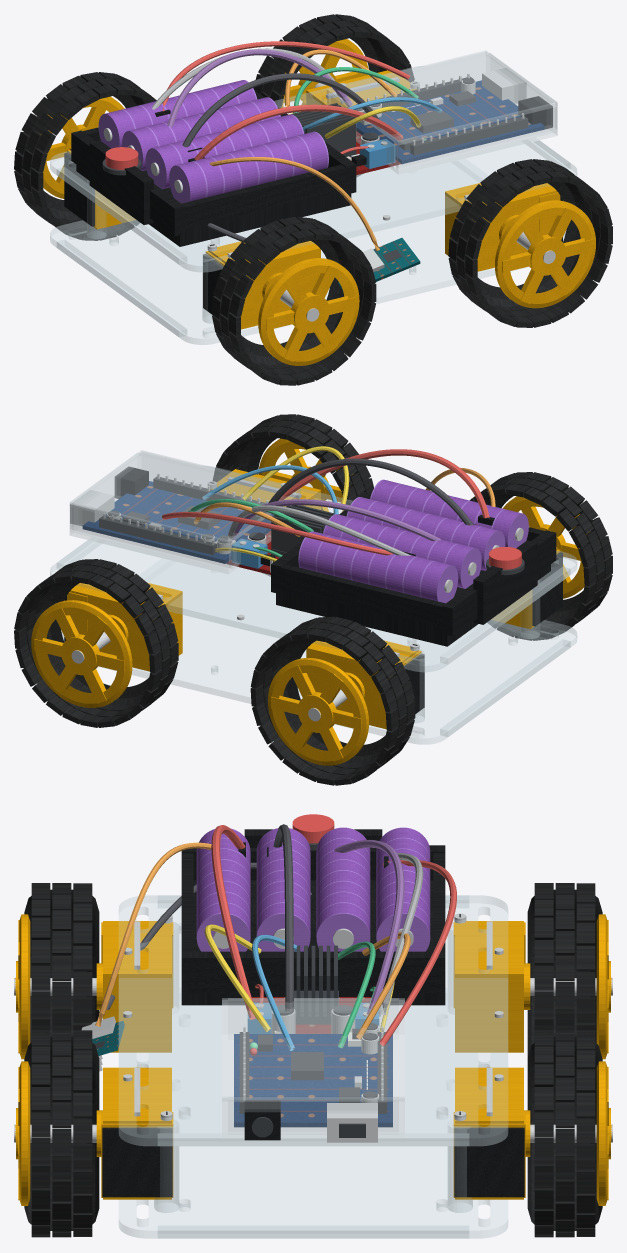
File: car.glb
3 renders of one model, top to bottom at view 1: azimuth 30°, elevation 25°; view 2: azimuth 150°, elevation 25°; view 3: azimuth 270°, elevation 25°, orthographic. The views are drawn at different scales.
Parts seen in each view (by area): view 1: Lower acrylic chassis plate with slots, Upper acrylic equipment deck with fixing holes, Front_Left black rubber tyre with tread blocks, Rear_Left black rubber tyre with tread blocks, Arduino case transparent lid, Rear_Right black rubber tyre with tread blocks, Rear_Left yellow six-spoke wheel rim, Front_Left yellow six-spoke wheel rim, Purple 18650 lithium cell 1, Arduino case long clear wall -29.5, Battery holder left side rail, Front_Right black rubber tyre with tread blocks (+43 smaller); view 2: Lower acrylic chassis plate with slots, Upper acrylic equipment deck with fixing holes, Rear_Right black rubber tyre with tread blocks, Front_Right black rubber tyre with tread blocks, Arduino case transparent lid, Rear_Left black rubber tyre with tread blocks, Rear_Right yellow six-spoke wheel rim, Front_Right yellow six-spoke wheel rim, Purple 18650 lithium cell 4, Front_Left black rubber tyre with tread blocks, Arduino case long clear wall 29.5, Battery holder right side rail (+40 smaller); view 3: Lower acrylic chassis plate with slots, Upper acrylic equipment deck with fixing holes, Arduino case transparent lid, Front_Right black rubber tyre with tread blocks, Front_Left black rubber tyre with tread blocks, Rear_Right black rubber tyre with tread blocks, Rear_Left black rubber tyre with tread blocks, Arduino UNO R3 blue PCB, Yellow DC gearmotor housing R_0, Battery holder front end wall, Yellow DC gearmotor housing L_0, Purple 18650 lithium cell 3 (+44 smaller).
Boxes of the visible parts, bbox=[...] form: Lower acrylic chassis plate with slots: bbox=[50, 162, 565, 344]; Upper acrylic equipment deck with fixing holes: bbox=[50, 66, 576, 272]; Front_Left black rubber tyre with tread blocks: bbox=[448, 159, 612, 327]; Rear_Left black rubber tyre with tread blocks: bbox=[212, 216, 376, 385]; Arduino case transparent lid: bbox=[327, 50, 557, 144]; Rear_Right black rubber tyre with tread blocks: bbox=[14, 72, 156, 240]; Rear_Left yellow six-spoke wheel rim: bbox=[258, 258, 359, 365]; Front_Left yellow six-spoke wheel rim: bbox=[495, 200, 595, 308]; Purple 18650 lithium cell 1: bbox=[169, 131, 328, 203]; Arduino case long clear wall -29.5: bbox=[396, 103, 557, 170]; Battery holder left side rail: bbox=[180, 164, 351, 233]; Front_Right black rubber tyre with tread blocks: bbox=[253, 14, 414, 176]; Lower acrylic chassis plate with slots: bbox=[62, 562, 576, 744]; Upper acrylic equipment deck with fixing holes: bbox=[50, 466, 576, 671]; Rear_Right black rubber tyre with tread blocks: bbox=[250, 616, 415, 785]; Front_Right black rubber tyre with tread blocks: bbox=[14, 559, 178, 727]; Arduino case transparent lid: bbox=[70, 450, 300, 544]; Rear_Left black rubber tyre with tread blocks: bbox=[470, 472, 612, 640]; Rear_Right yellow six-spoke wheel rim: bbox=[267, 658, 368, 765]; Front_Right yellow six-spoke wheel rim: bbox=[31, 600, 132, 707]; Purple 18650 lithium cell 4: bbox=[298, 531, 458, 603]; Front_Left black rubber tyre with tread blocks: bbox=[213, 414, 373, 576]; Arduino case long clear wall 29.5: bbox=[70, 502, 230, 569]; Battery holder right side rail: bbox=[276, 564, 447, 631]; Lower acrylic chassis plate with slots: bbox=[119, 1000, 507, 1238]; Upper acrylic equipment deck with fixing holes: bbox=[119, 895, 507, 1145]; Arduino case transparent lid: bbox=[222, 998, 404, 1101]; Front_Right black rubber tyre with tread blocks: bbox=[527, 1030, 602, 1237]; Front_Left black rubber tyre with tread blocks: bbox=[24, 1030, 99, 1237]; Rear_Right black rubber tyre with tread blocks: bbox=[527, 883, 602, 1057]; Rear_Left black rubber tyre with tread blocks: bbox=[24, 883, 99, 1042]; Arduino UNO R3 blue PCB: bbox=[234, 1034, 392, 1127]; Yellow DC gearmotor housing R_0: bbox=[455, 921, 523, 1052]; Battery holder front end wall: bbox=[181, 951, 445, 993]; Yellow DC gearmotor housing L_0: bbox=[103, 921, 171, 1052]; Purple 18650 lithium cell 3: bbox=[316, 827, 370, 951].
Bounding box in the file's own units: 0.2099 × 0.1024 × 0.2.
24 materials, 7 textured.
